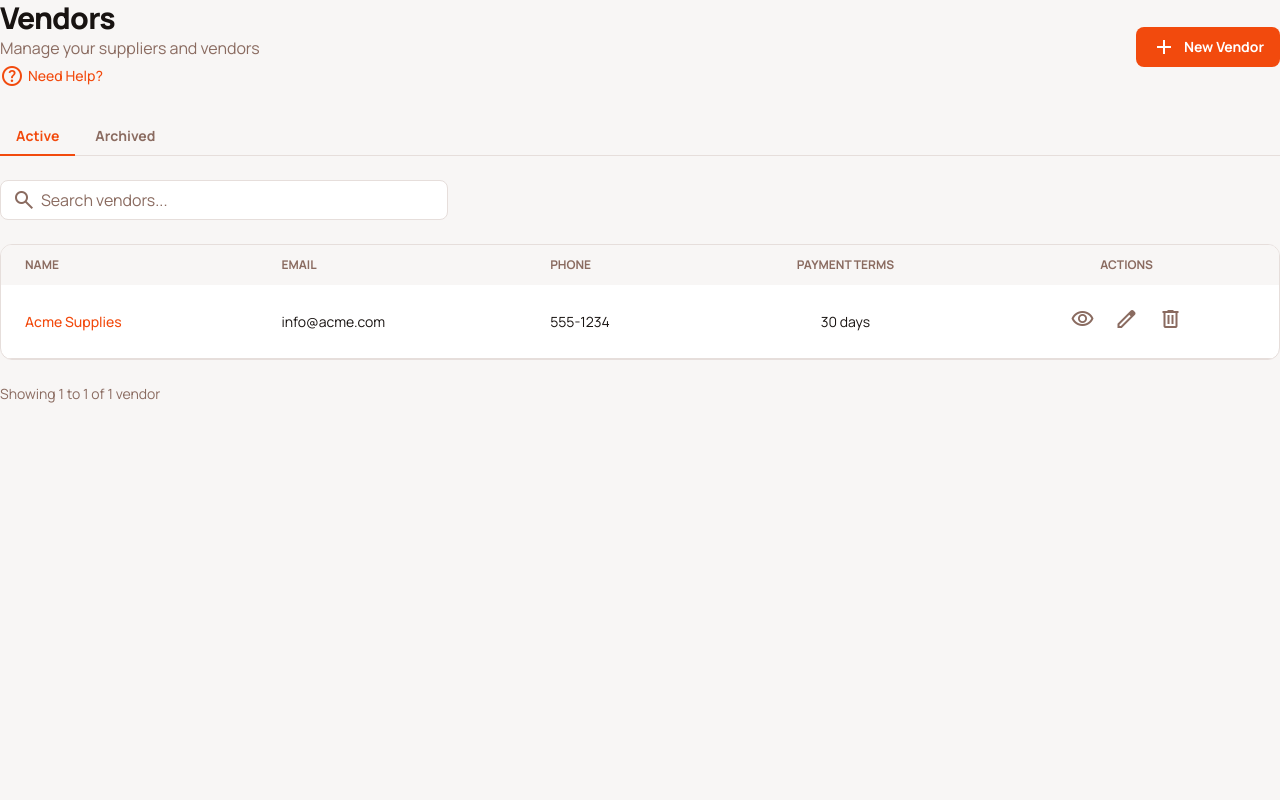
Scenario: VendorListPage › delete functionality › closes delete modal when cancel button is clicked
The width and height of the screenshot is (1280, 800).
Click the button with test id "vendor-delete-vendor-cancel" at coordinates (1171, 322), box [1153, 301, 1189, 342]
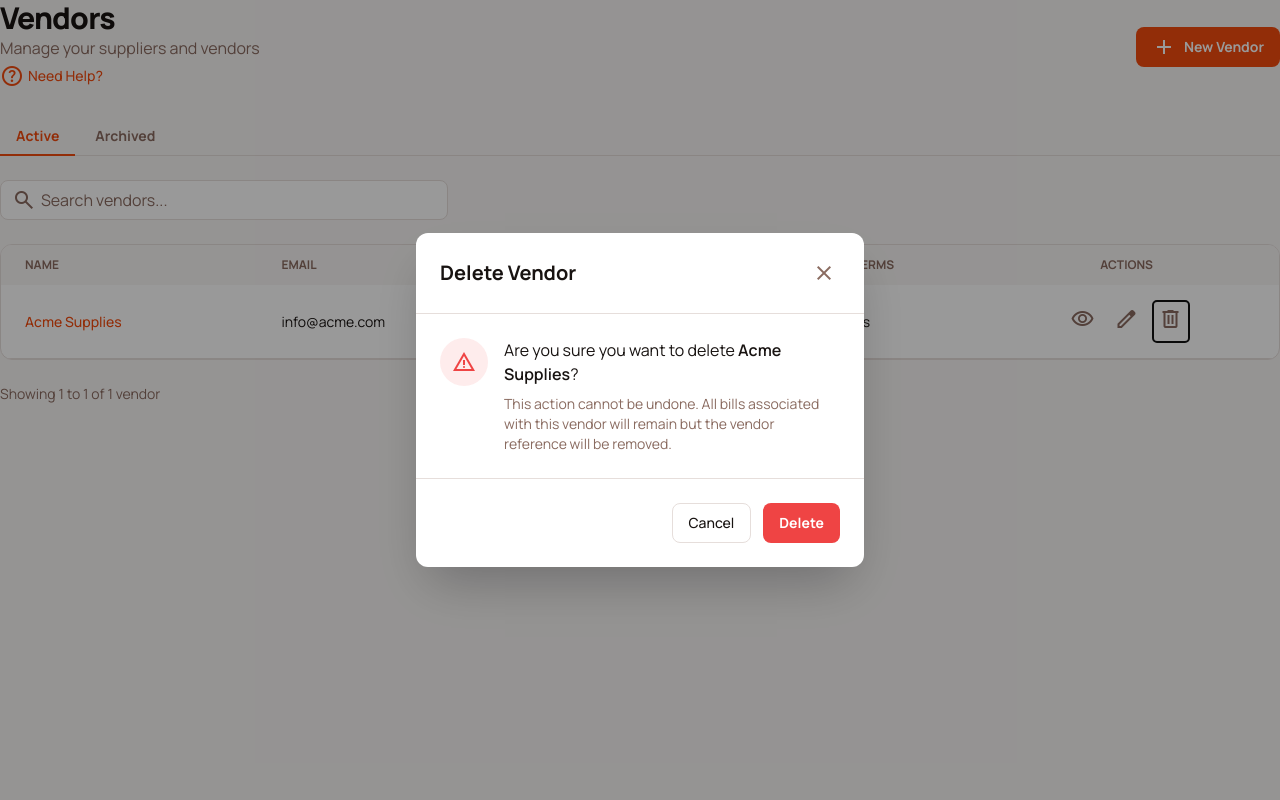
Expected: the element with test id "delete-confirmation-modal" is shown
Click the button with test id "delete-cancel-button" at coordinates (711, 523), box [672, 503, 751, 543]
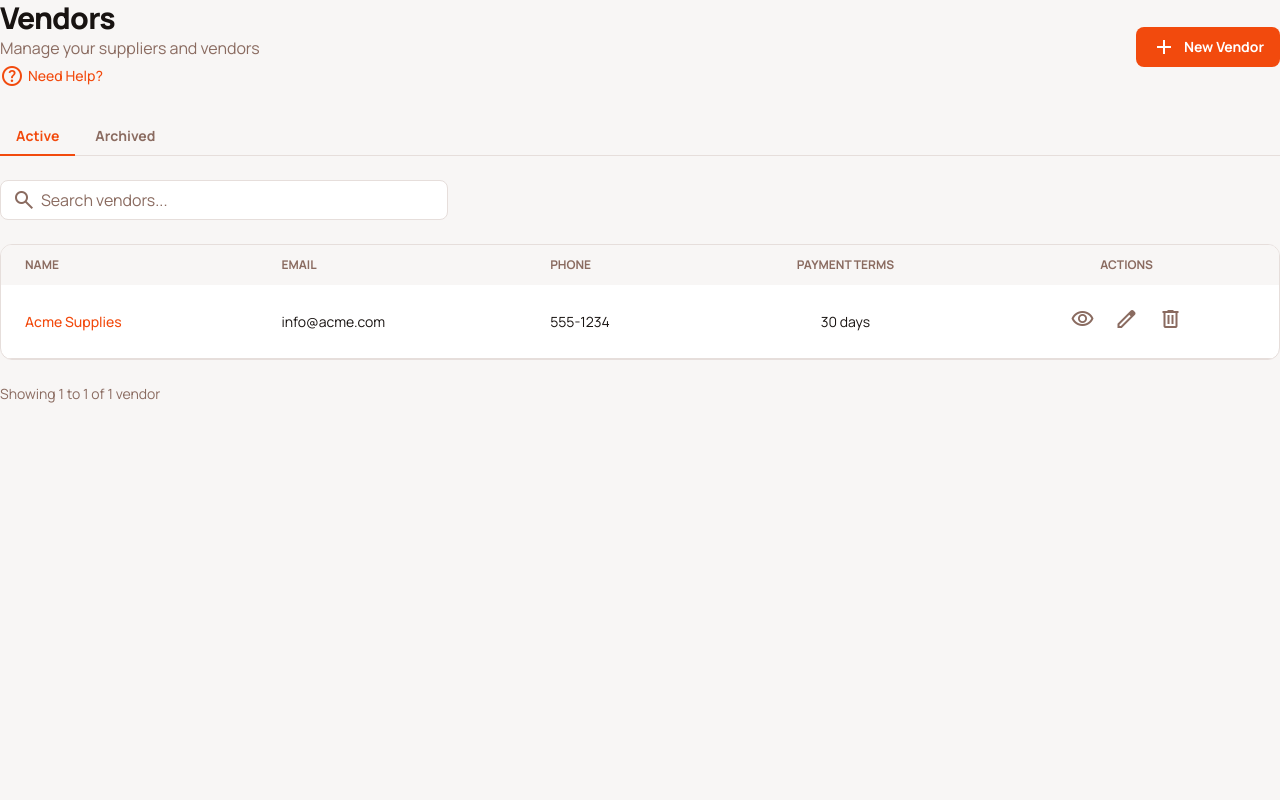
Expected: the element with test id "delete-confirmation-modal" is gone
